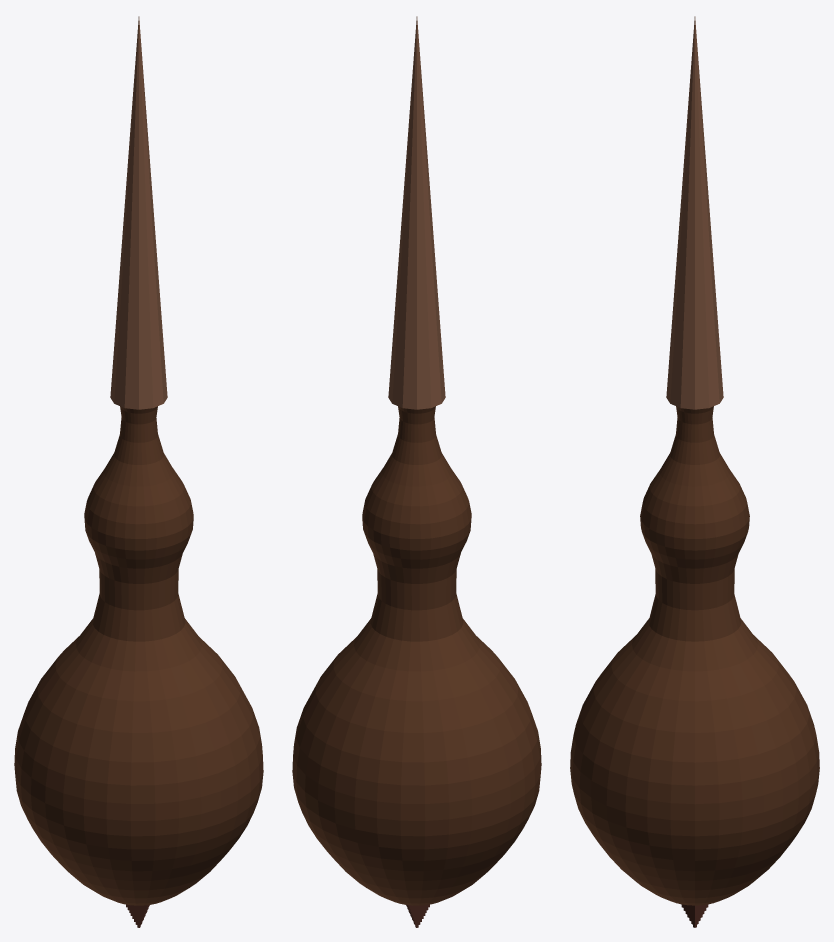
The model's file is Wand 624.glb.
The picture shows the model from 3 angles, left to right: view 1: azimuth 30°, elevation 25°; view 2: azimuth 150°, elevation 25°; view 3: azimuth 270°, elevation 25°; orthographic projection.
Parts seen in each view (by area): view 1: GeneratedWand; view 2: GeneratedWand; view 3: GeneratedWand.
Part boxes in pixels (x1,y1,x2,y2): GeneratedWand: (14,16,263,927); GeneratedWand: (292,16,541,927); GeneratedWand: (570,16,819,927).
Size of the model in its own units: 0.123 by 0.4961 by 0.123.
